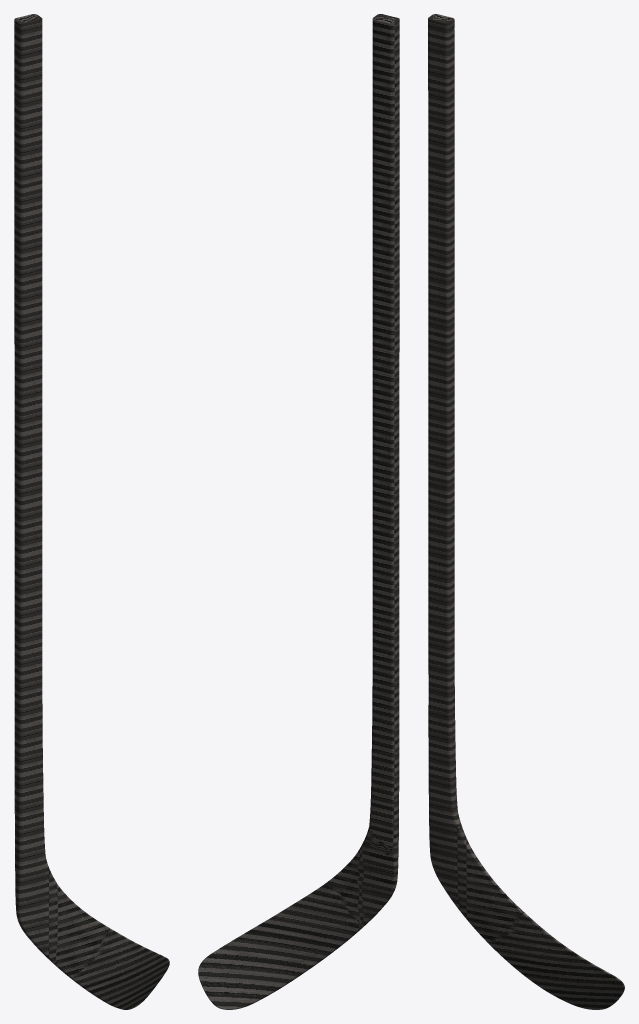
The picture shows the model from 3 angles, left to right: view 1: azimuth 30°, elevation 25°; view 2: azimuth 150°, elevation 25°; view 3: azimuth 330°, elevation 25°; orthographic projection. The views are drawn at different scales.
Visible parts, largest first — view 1: geometry_0; view 2: geometry_0; view 3: geometry_0.
Part boxes in pixels (x1,y1,x2,y2): geometry_0: (14, 14, 169, 1009); geometry_0: (198, 14, 399, 1009); geometry_0: (428, 14, 624, 1009).
Bounding box in the file's own units: 231 × 1282 × 78.82.
1 material, 1 textured.
